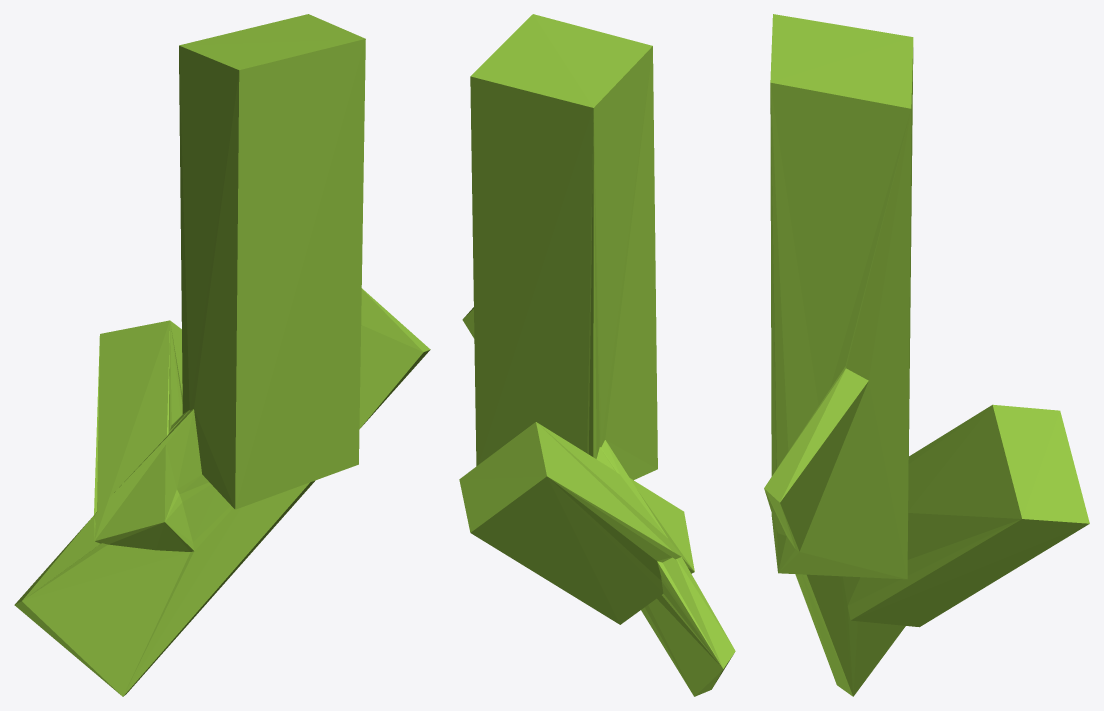
3 views of the same model, side by side, from view 1: azimuth 30°, elevation 25°; view 2: azimuth 150°, elevation 25°; view 3: azimuth 270°, elevation 25° (orthographic). The views are drawn at different scales.
Visible parts, largest first — view 1: 041_Cube.172; view 2: 041_Cube.172; view 3: 041_Cube.172.
Boxes of the visible parts, bbox=[...] form: 041_Cube.172: bbox=[14, 14, 430, 696]; 041_Cube.172: bbox=[459, 14, 735, 696]; 041_Cube.172: bbox=[764, 14, 1089, 696].
Size of the model in its own units: 10.46 by 18.25 by 7.4.
